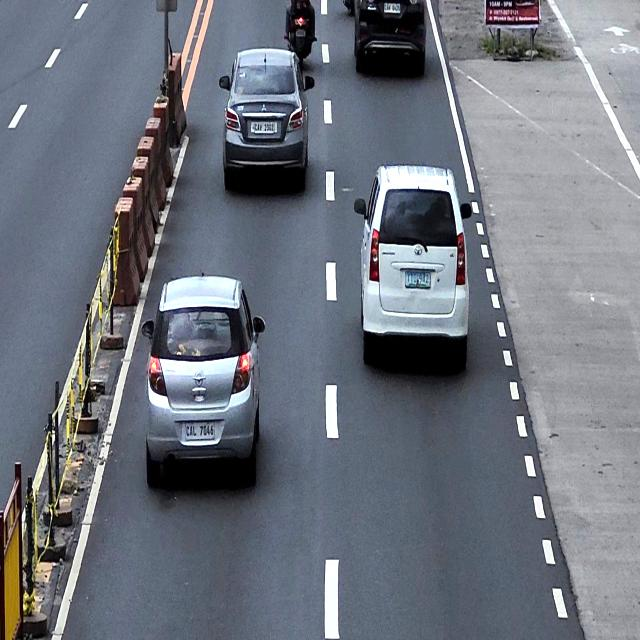Car: (140, 274, 266, 493), (352, 162, 473, 374), (218, 46, 316, 200), (354, 0, 426, 79)
License-Plate: (403, 268, 431, 291), (183, 422, 216, 439), (251, 118, 276, 134), (382, 0, 402, 15), (296, 29, 306, 38)
Motorcycle: (285, 0, 318, 68)
